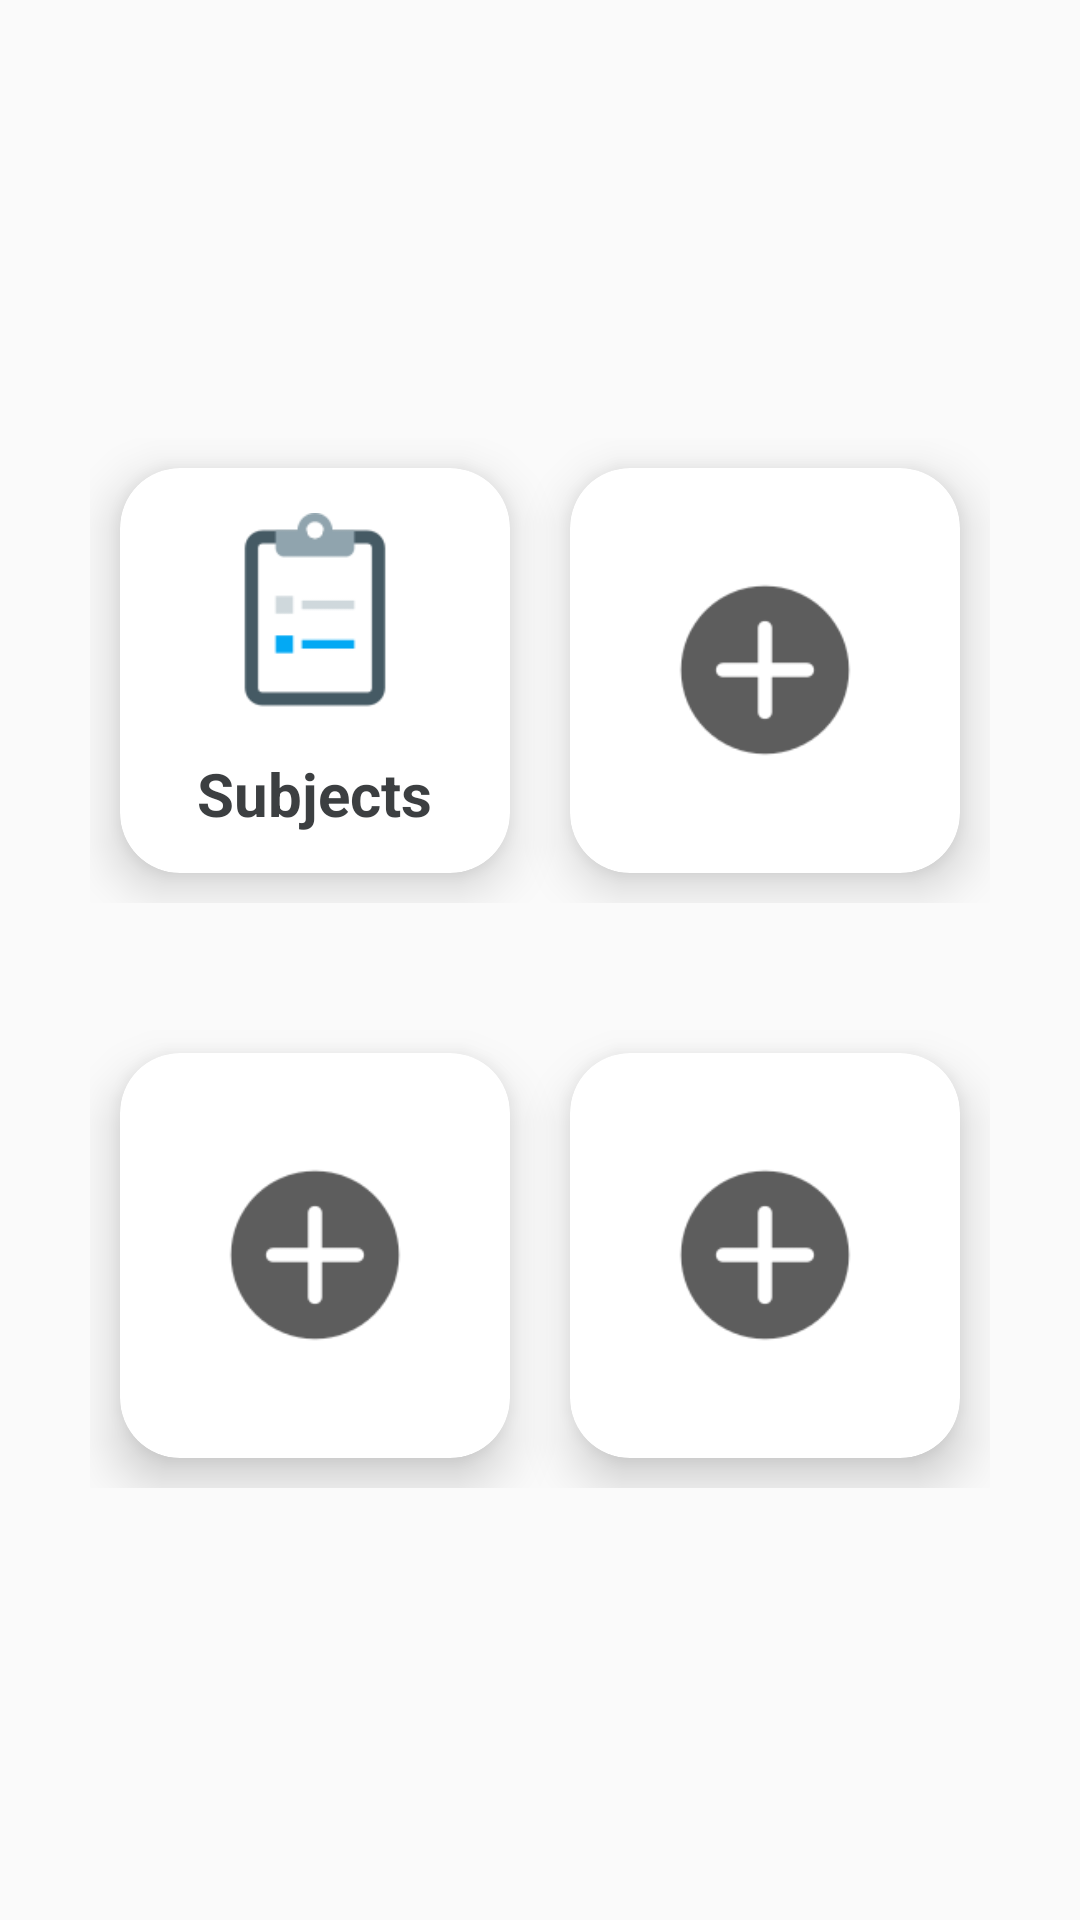

Where icons sit on this 1080 x 1920 app screen, as box=[x1, y1, x2, y2]:
plus: box=[680, 585, 850, 755], box=[230, 1170, 400, 1340], box=[680, 1170, 850, 1340]
